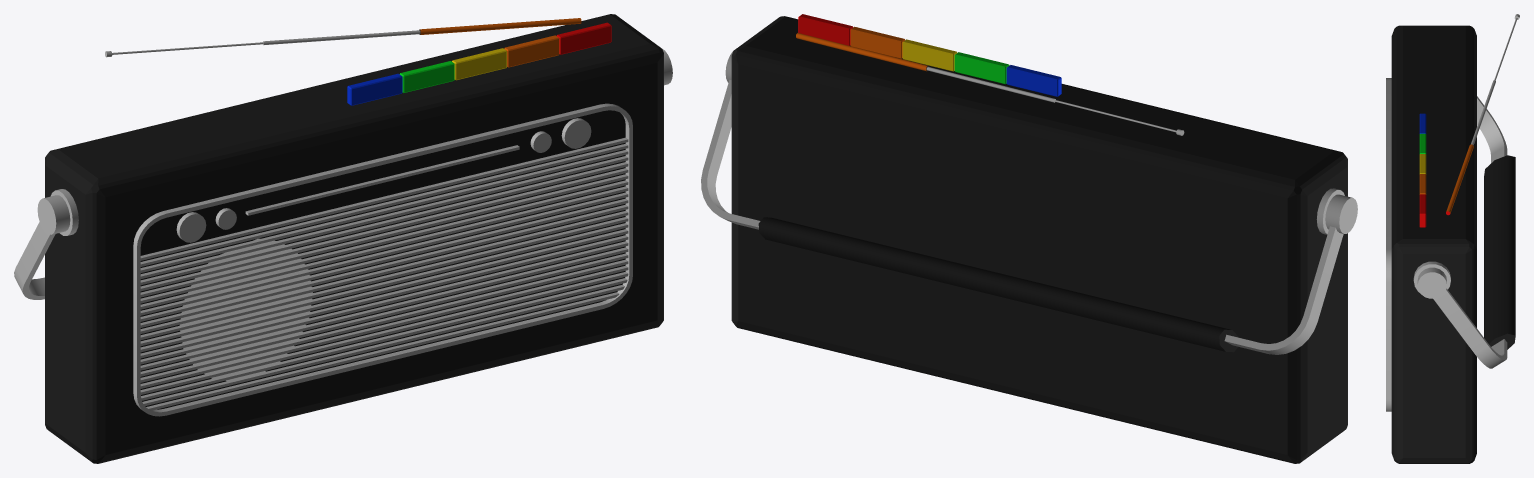
The model's file is radio.fbx.
3 views of the same model, side by side, from view 1: azimuth 30°, elevation 25°; view 2: azimuth 150°, elevation 25°; view 3: azimuth 270°, elevation 25° (orthographic). The views are drawn at different scales.
Parts seen in each view (by area): view 1: Radio; view 2: Radio; view 3: Radio.
Part boxes in pixels (x1,y1,x2,y2): Radio: (14, 14, 672, 463); Radio: (701, 14, 1357, 463); Radio: (1386, 14, 1519, 463).
Bounding box in the file's own units: 46.81 × 24.57 × 11.12.
